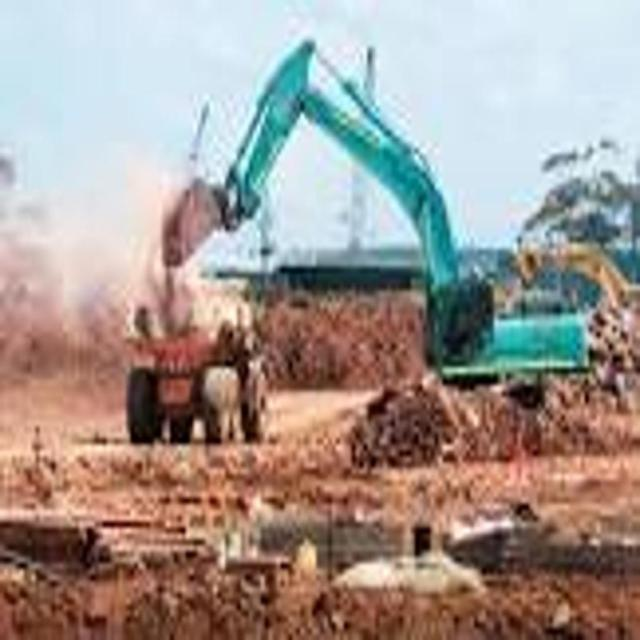dump_truck: (100, 252, 283, 462)
